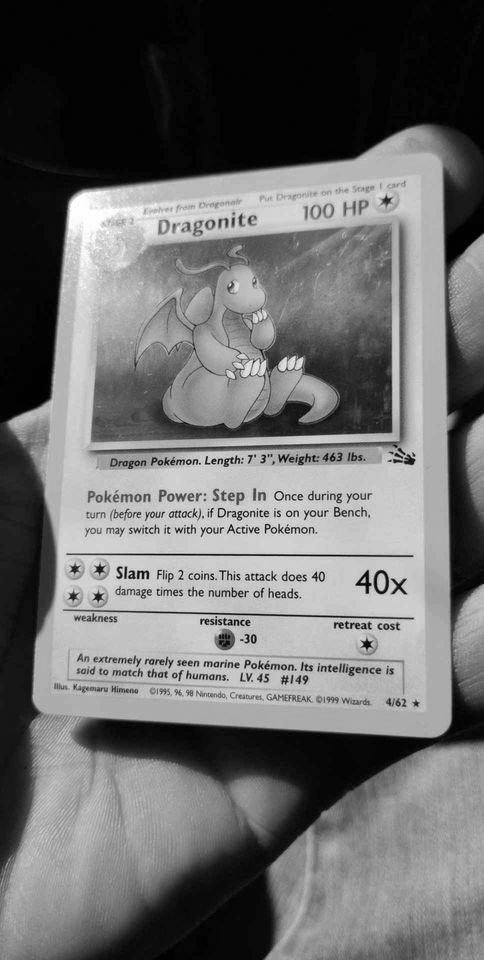card: (27, 149, 455, 742)
